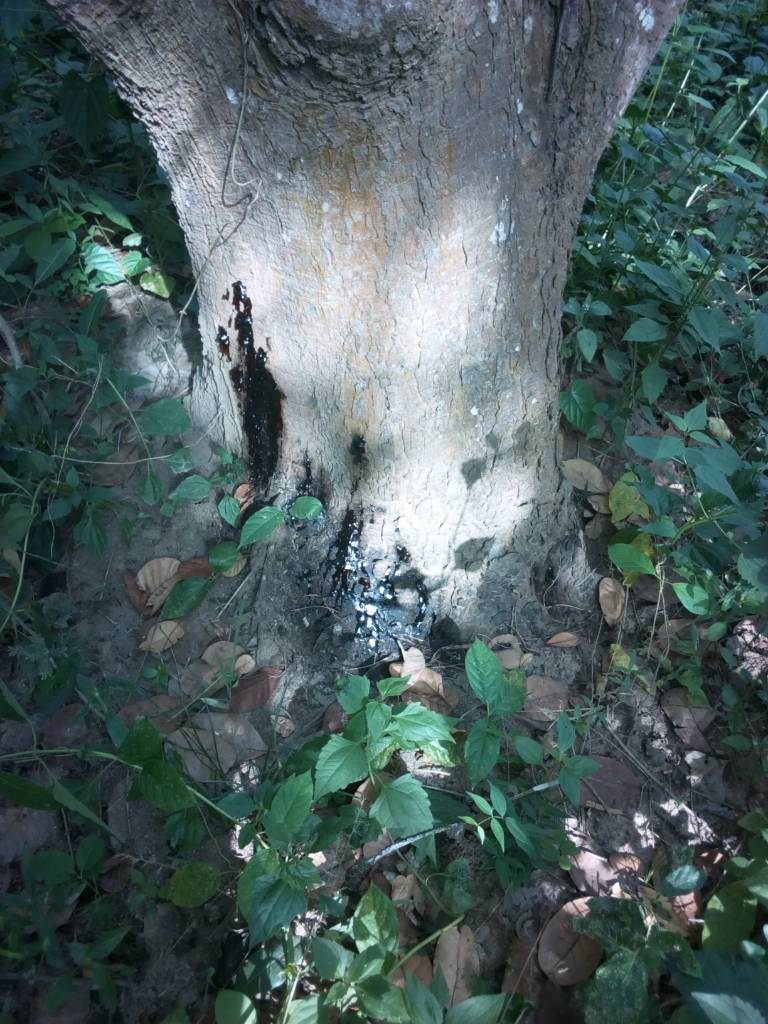Gommose: (215, 285, 441, 632)
